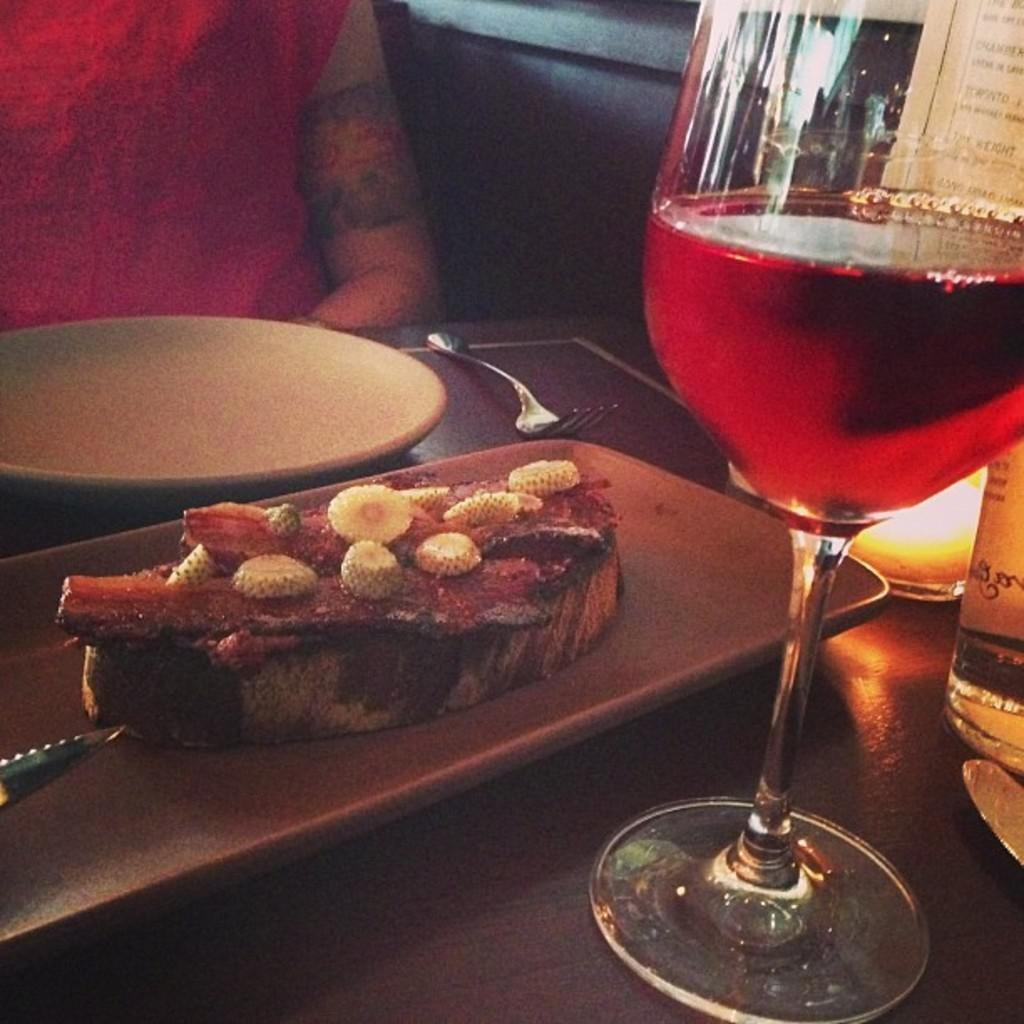glass-wine: (589, 0, 1022, 1019)
